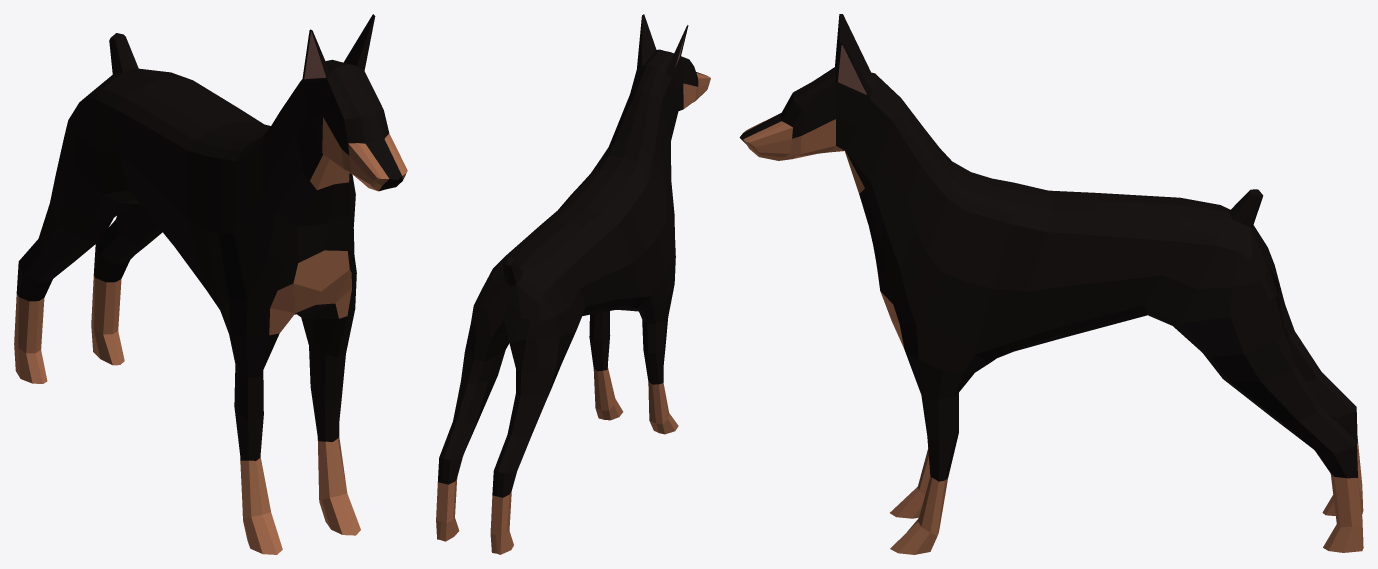
Rendered from Dog-9bqPCxOyrk.glb.
The picture shows the model from 3 angles, left to right: view 1: azimuth 30°, elevation 25°; view 2: azimuth 150°, elevation 25°; view 3: azimuth 270°, elevation 25°; orthographic projection. The views are drawn at different scales.
Visible parts, largest first — view 1: 12dogFinal; view 2: 12dogFinal; view 3: 12dogFinal.
Part boxes in pixels (<box>): 12dogFinal: <box>14,14,407,554</box>; 12dogFinal: <box>436,14,710,554</box>; 12dogFinal: <box>739,14,1363,554</box>.
Bounding box in the file's own units: 0.3565 × 1.54 × 1.73.
1 material, 1 textured.
